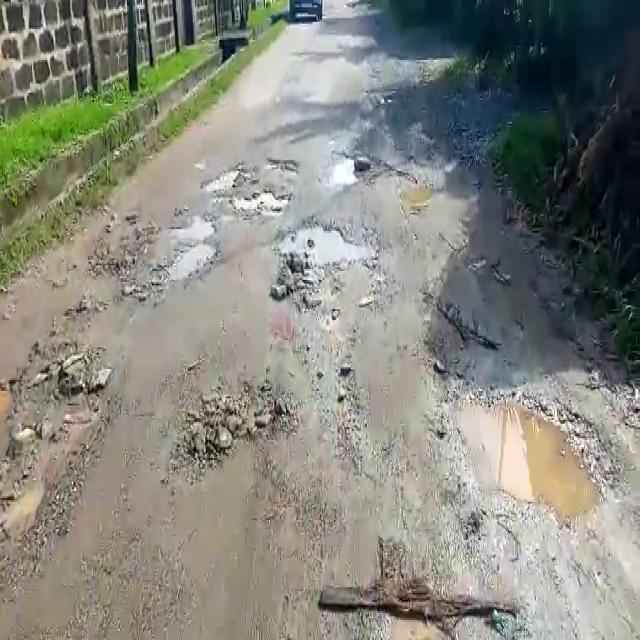Pothole: (440, 387, 617, 523), (0, 362, 116, 563), (178, 381, 298, 466), (288, 218, 376, 264), (159, 236, 217, 283), (228, 188, 290, 215), (320, 144, 358, 187), (160, 214, 216, 240), (206, 165, 247, 192), (265, 154, 299, 179)
